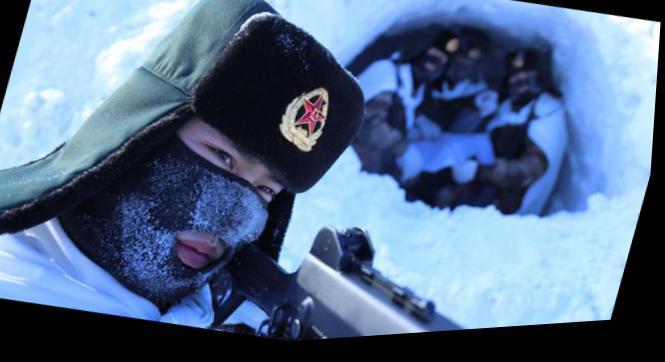WRONG: (103, 106, 303, 316)
